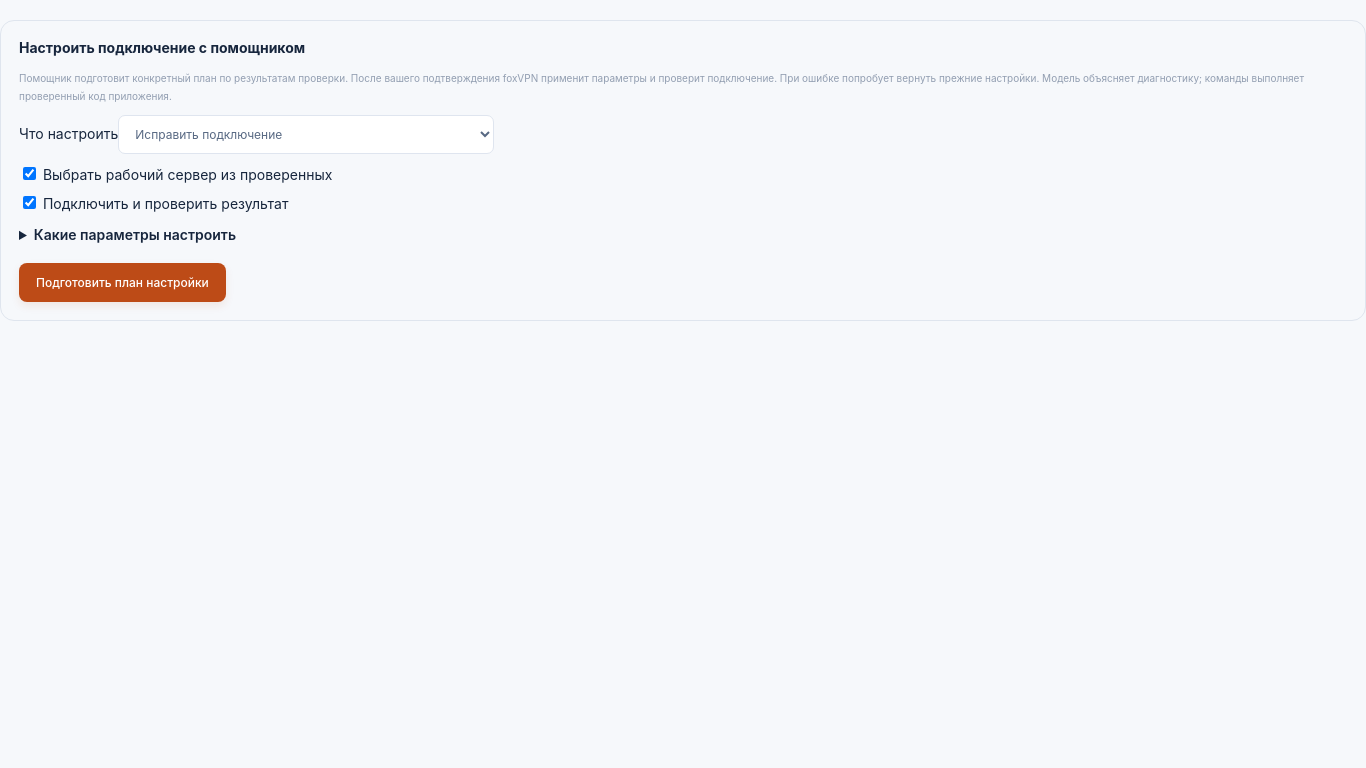
Test case: failed application does not claim success and requests a fresh check
Click the button "Подготовить план настройки".
click(122, 282)  # box [19,263,226,302]
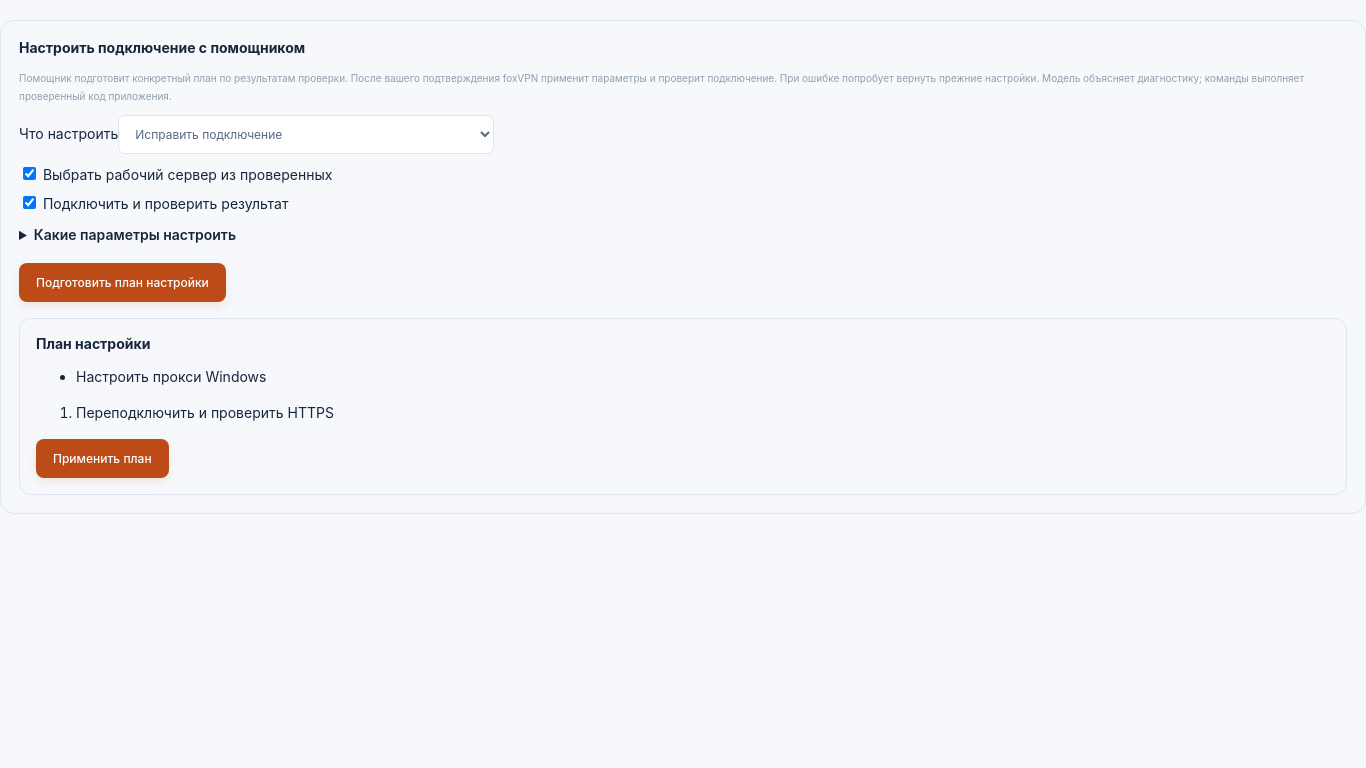
Result: the text "План настройки" is shown at [36,335,150,352]
Click the button "Применить план".
click(102, 458)  # box [36,439,169,478]
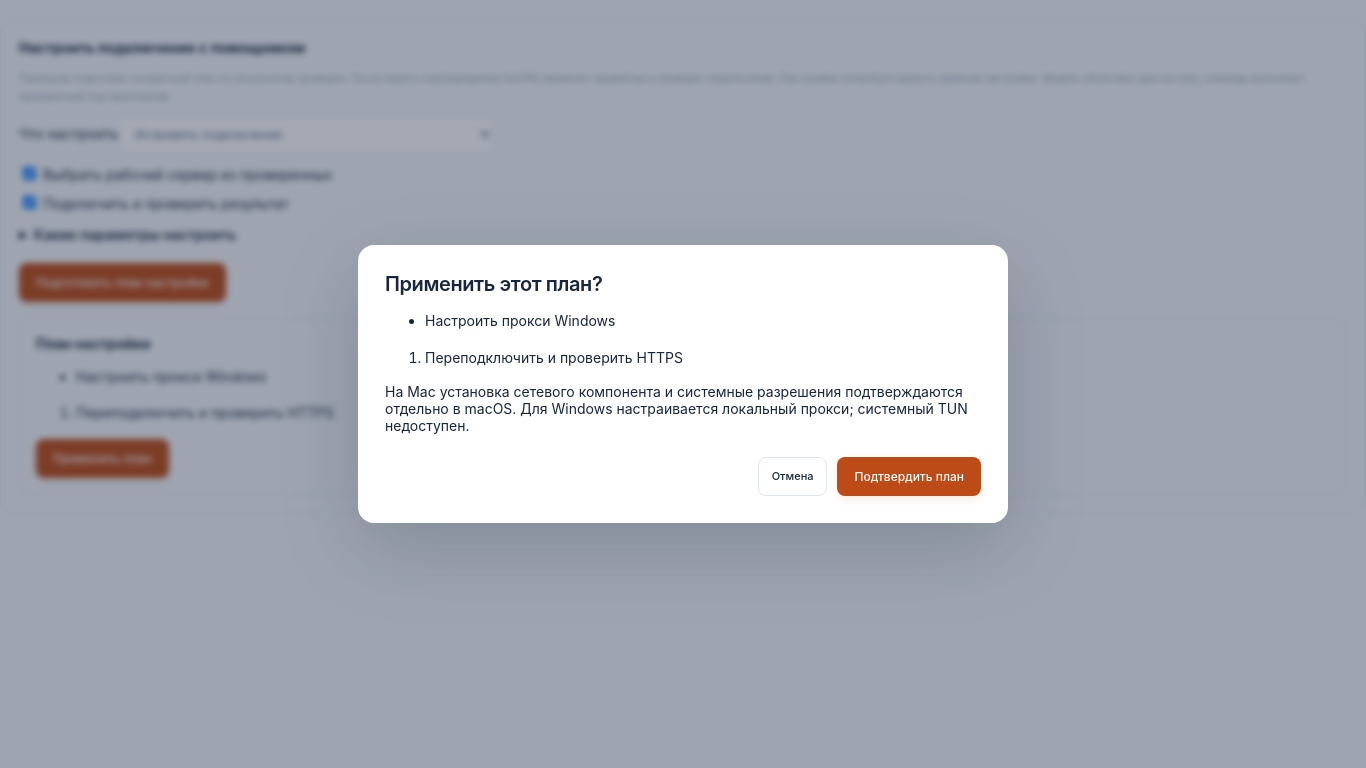
Click the button "Подтвердить план".
click(909, 476)  # box [838,457,981,496]
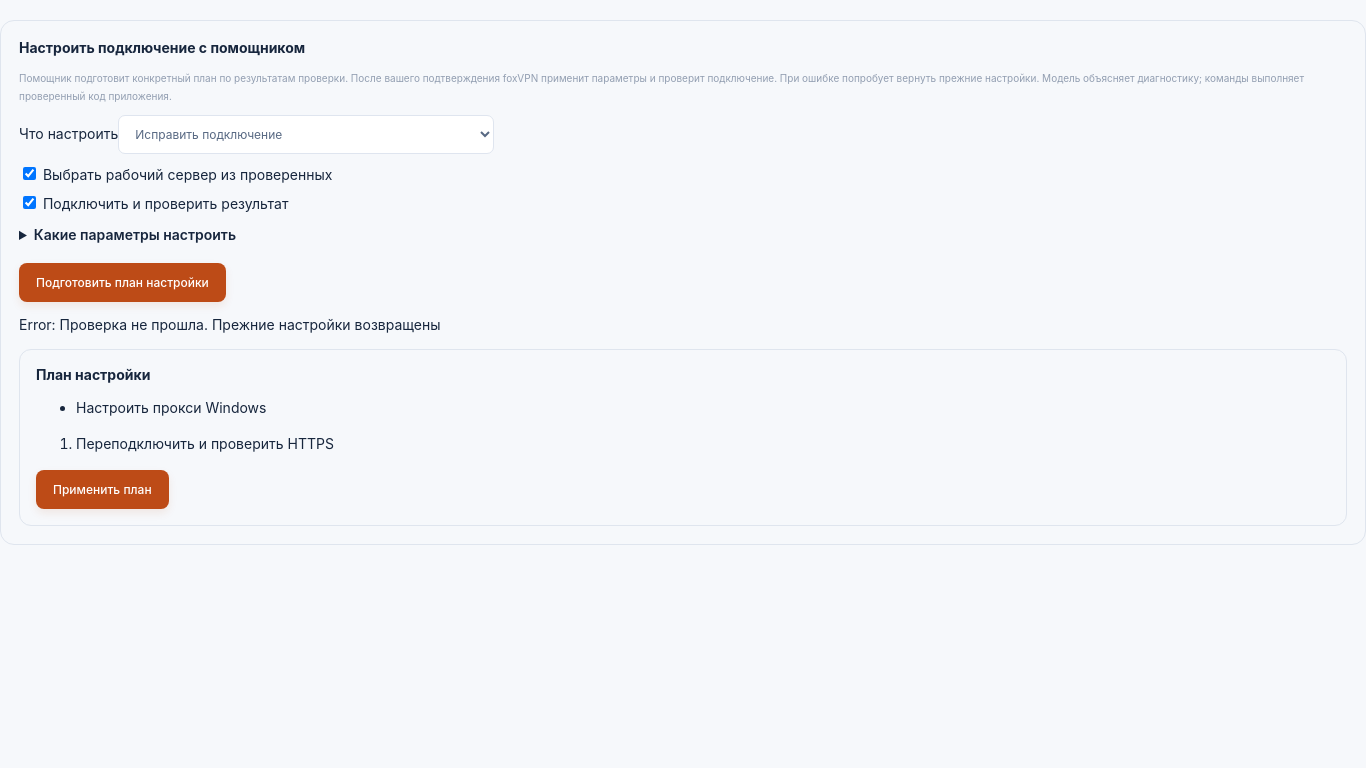
Result: the text "Error: Проверка не прошла. Прежние настройки возвращены" is shown at [19,316,440,333]
